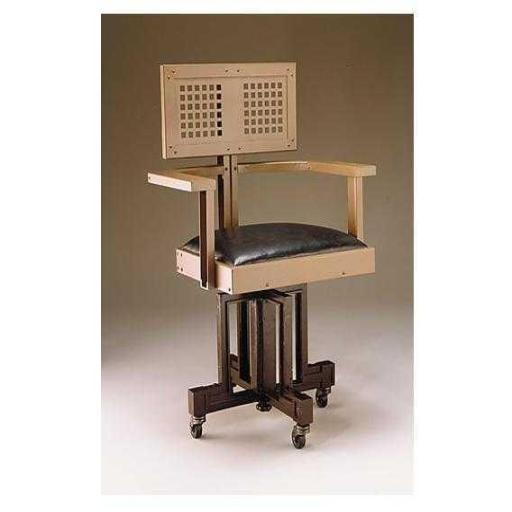chair: (155, 58, 381, 450)
